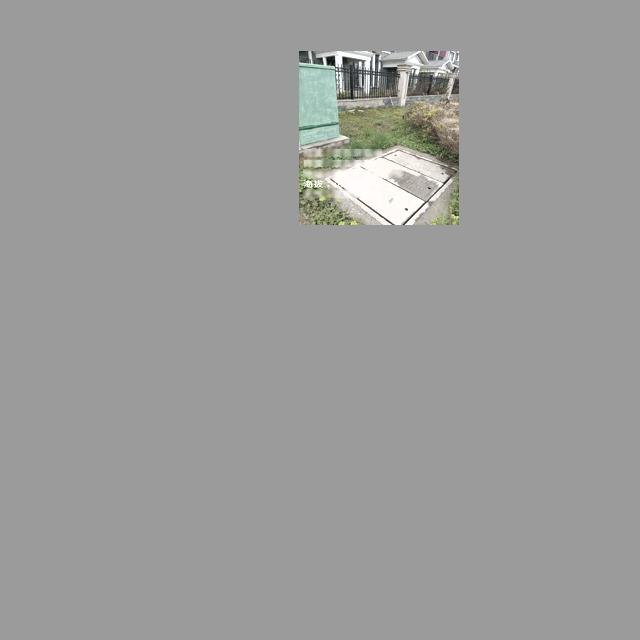good: (324, 148, 459, 224)
